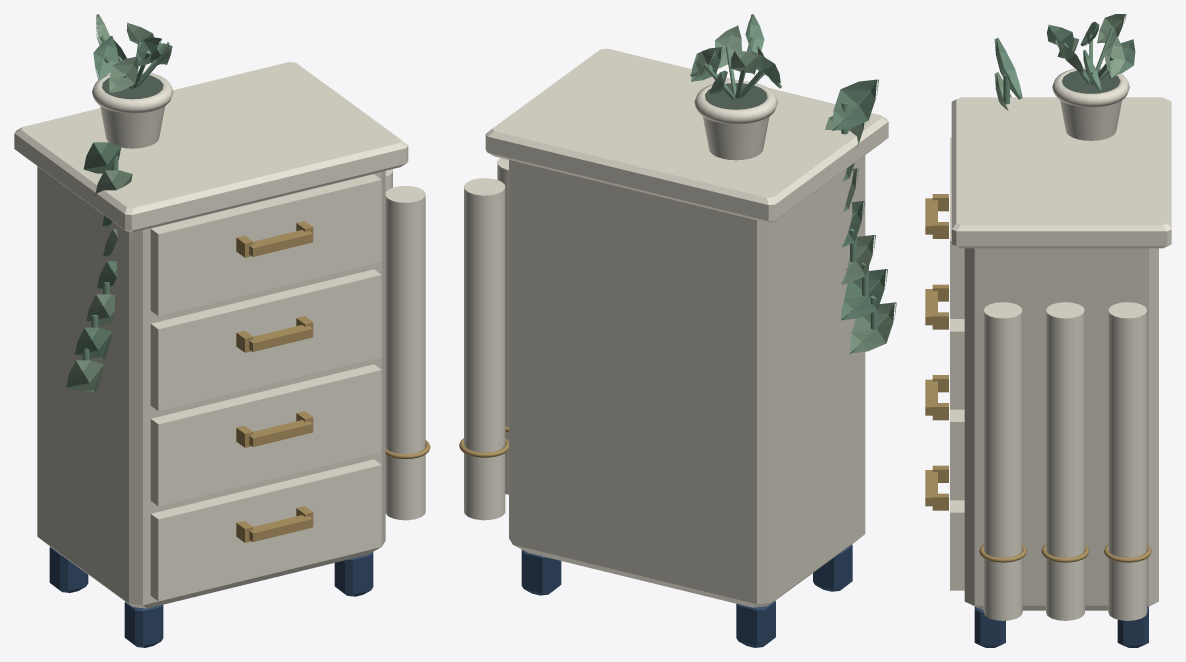
File: v18_special_chart_cabinet.glb
3 views of the same model, side by side, from view 1: azimuth 30°, elevation 25°; view 2: azimuth 150°, elevation 25°; view 3: azimuth 270°, elevation 25° (orthographic). The views are drawn at different scales.
Visible parts, largest first — view 1: _MeshInstance3D_5246, _MeshInstance3D_5247, _MeshInstance3D_5252, _MeshInstance3D_5260, _MeshInstance3D_5248, _MeshInstance3D_5256, _MeshInstance3D_5295, _MeshInstance3D_5264, _MeshInstance3D_5243, _MeshInstance3D_5265, _MeshInstance3D_5245, _MeshInstance3D_5242 (+12 smaller); view 2: _MeshInstance3D_5246, _MeshInstance3D_5247, _MeshInstance3D_5291, _MeshInstance3D_5264, _MeshInstance3D_5297, _MeshInstance3D_5265, _MeshInstance3D_5242, _MeshInstance3D_5244, _MeshInstance3D_5318, _MeshInstance3D_5293, _MeshInstance3D_5315, _MeshInstance3D_5243 (+3 smaller); view 3: _MeshInstance3D_5246, _MeshInstance3D_5247, _MeshInstance3D_5291, _MeshInstance3D_5295, _MeshInstance3D_5293, _MeshInstance3D_5264, _MeshInstance3D_5252, _MeshInstance3D_5248, _MeshInstance3D_5256, _MeshInstance3D_5265, _MeshInstance3D_5260, _MeshInstance3D_5245 (+11 smaller).
Boxes of the visible parts, x1,y1,x2,y2 form: _MeshInstance3D_5246: [37, 166, 385, 608]; _MeshInstance3D_5247: [14, 62, 408, 232]; _MeshInstance3D_5252: [150, 364, 381, 506]; _MeshInstance3D_5260: [150, 174, 381, 316]; _MeshInstance3D_5248: [150, 459, 381, 601]; _MeshInstance3D_5256: [150, 269, 381, 411]; _MeshInstance3D_5295: [385, 185, 425, 520]; _MeshInstance3D_5264: [100, 106, 164, 148]; _MeshInstance3D_5243: [124, 602, 163, 647]; _MeshInstance3D_5265: [92, 71, 173, 113]; _MeshInstance3D_5245: [334, 552, 373, 596]; _MeshInstance3D_5242: [49, 547, 88, 592]; _MeshInstance3D_5246: [509, 155, 865, 607]; _MeshInstance3D_5247: [485, 48, 888, 222]; _MeshInstance3D_5291: [464, 178, 505, 520]; _MeshInstance3D_5264: [703, 117, 769, 160]; _MeshInstance3D_5297: [832, 79, 878, 130]; _MeshInstance3D_5265: [694, 81, 777, 124]; _MeshInstance3D_5242: [736, 601, 775, 647]; _MeshInstance3D_5244: [521, 550, 561, 595]; _MeshInstance3D_5318: [849, 302, 896, 353]; _MeshInstance3D_5293: [497, 158, 508, 494]; _MeshInstance3D_5315: [841, 269, 887, 320]; _MeshInstance3D_5243: [813, 544, 852, 591]; _MeshInstance3D_5246: [964, 248, 1158, 610]; _MeshInstance3D_5247: [951, 97, 1171, 248]; _MeshInstance3D_5291: [1108, 302, 1147, 620]; _MeshInstance3D_5295: [983, 302, 1022, 620]; _MeshInstance3D_5293: [1046, 302, 1084, 620]; _MeshInstance3D_5264: [1060, 100, 1121, 140]; _MeshInstance3D_5252: [950, 409, 964, 500]; _MeshInstance3D_5248: [950, 500, 964, 590]; _MeshInstance3D_5256: [950, 319, 964, 409]; _MeshInstance3D_5265: [1052, 67, 1129, 107]; _MeshInstance3D_5260: [950, 137, 964, 318]; _MeshInstance3D_5245: [974, 606, 1005, 647].
Bounding box in the file's own units: 1.17 × 1.78 × 0.7311.
